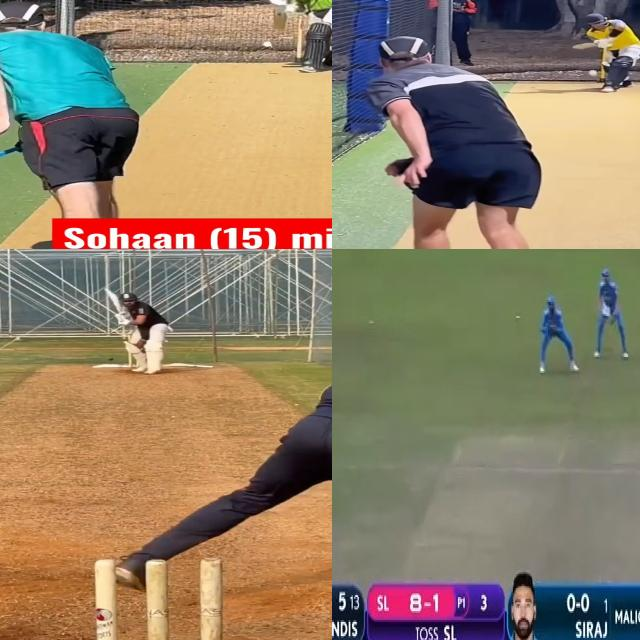Cricket ball: (262, 40, 274, 48), (588, 69, 598, 77), (108, 357, 114, 361)
Stumps: (88, 557, 225, 640)
